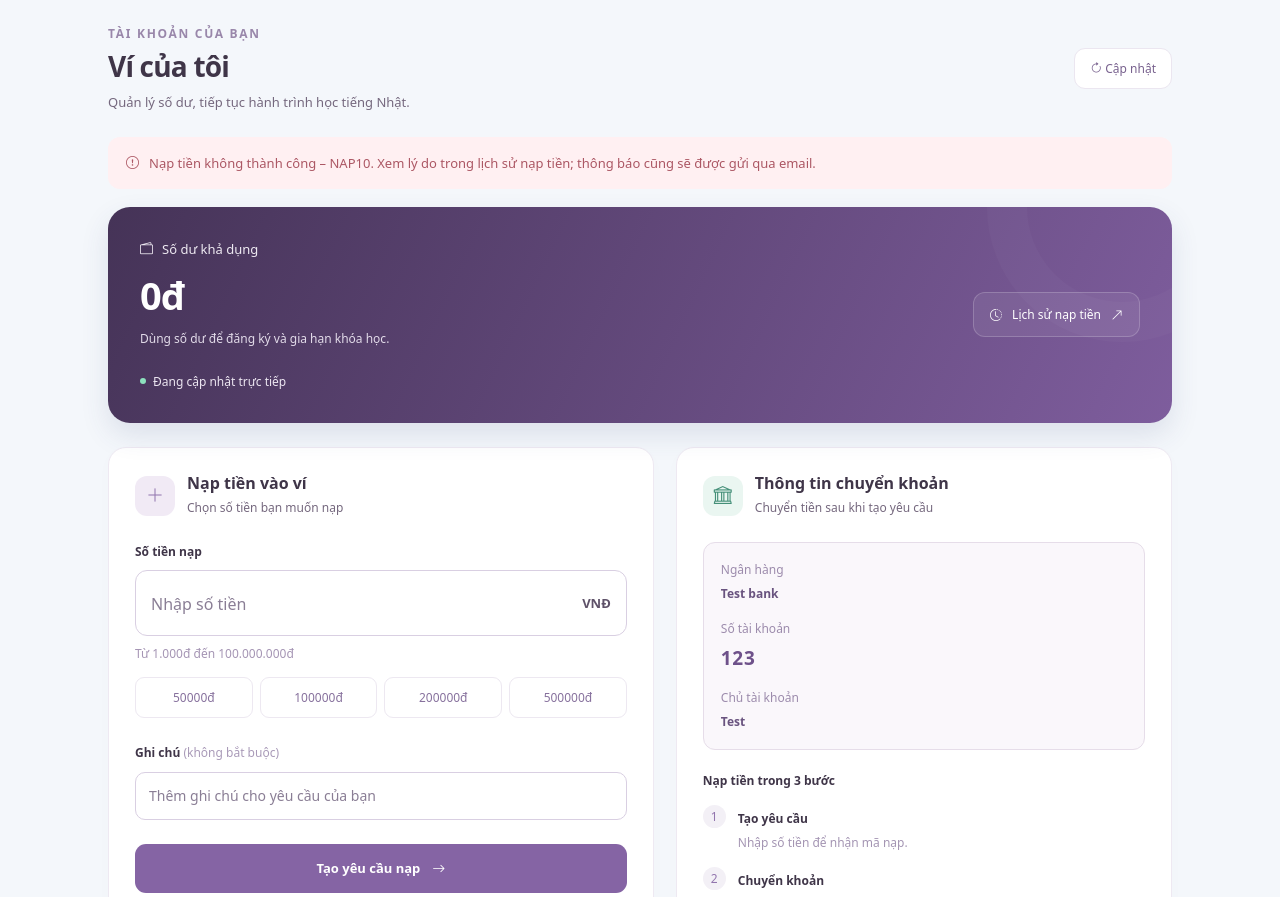
Scenario: wallet realtime outcomes › refreshes the authoritative state after REJECTED
Click the button with class "history-toggle" at (1057, 315), box x1=973 y1=292 x2=1140 y2=337
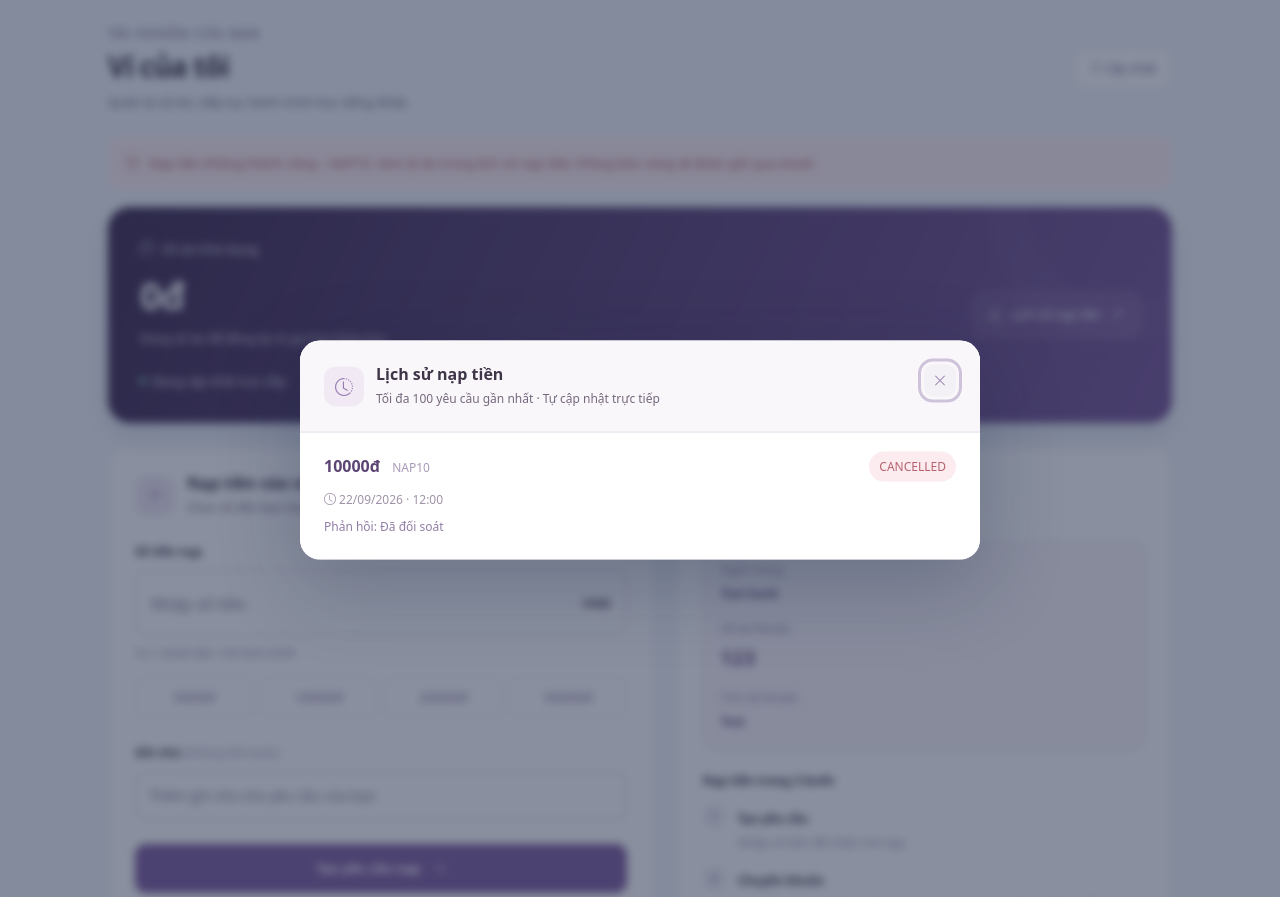
Result: the text "CANCELLED" is shown at x1=869 y1=452 x2=956 y2=481
Result: the text "Đã đối soát" is shown at x1=324 y1=517 x2=444 y2=534
